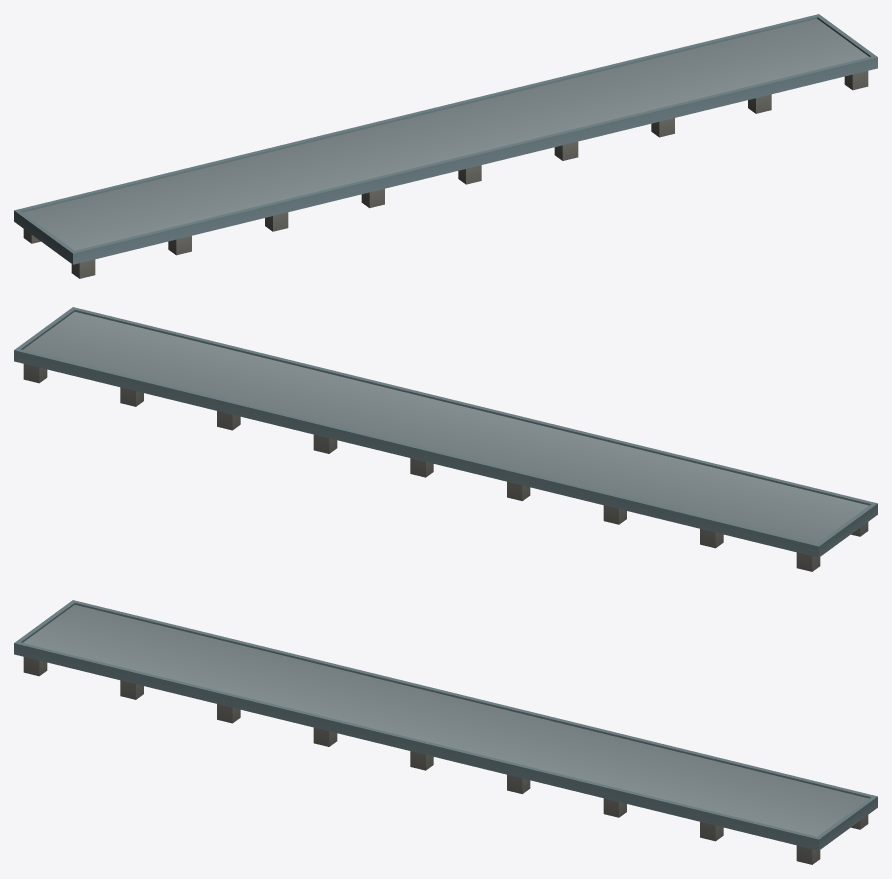
File: Cargo_Platform.fbx
The picture shows the model from 3 angles, top to bottom: view 1: azimuth 30°, elevation 25°; view 2: azimuth 150°, elevation 25°; view 3: azimuth 330°, elevation 25°; orthographic projection.
Parts seen in each view (by area): view 1: Cargo_Platform; view 2: Cargo_Platform; view 3: Cargo_Platform.
Boxes of the visible parts, <box> form: Cargo_Platform: <box>14,14,877,278</box>; Cargo_Platform: <box>14,307,877,571</box>; Cargo_Platform: <box>14,600,877,864</box>.
Bounding box in the file's own units: 4222 × 143 × 536.
